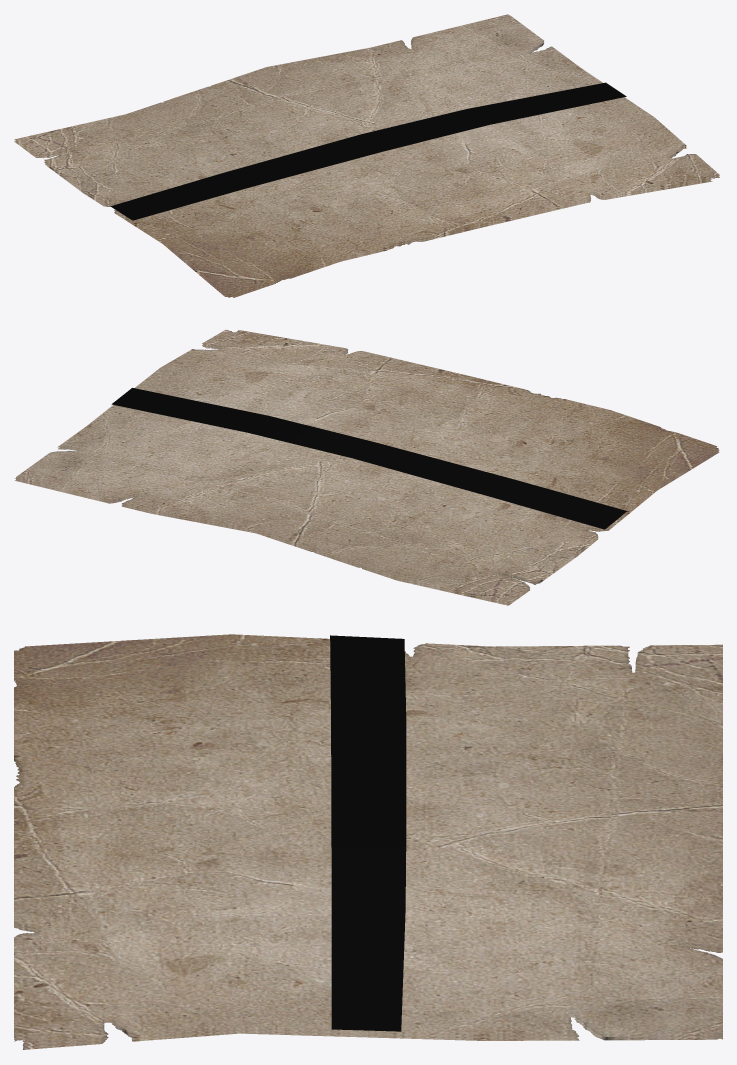
File: 01_01_note_munshi_dead_earth.dae
3 views of the same model, one above another, from view 1: azimuth 30°, elevation 25°; view 2: azimuth 150°, elevation 25°; view 3: azimuth 270°, elevation 25° (orthographic). The views are drawn at different scales.
Visible parts, largest first — view 1: note_paper, note_Dead_Earth; view 2: note_paper, note_Dead_Earth; view 3: note_paper, note_Dead_Earth.
Boxes of the visible parts, bbox=[...] form: note_paper: bbox=[14, 14, 719, 297]; note_Dead_Earth: bbox=[110, 82, 626, 220]; note_paper: bbox=[15, 330, 719, 605]; note_Dead_Earth: bbox=[111, 388, 626, 529]; note_paper: bbox=[14, 634, 722, 1049]; note_Dead_Earth: bbox=[330, 635, 406, 1031].
Bounding box in the file's own units: 0.248 × 0.00869 × 0.1862.
